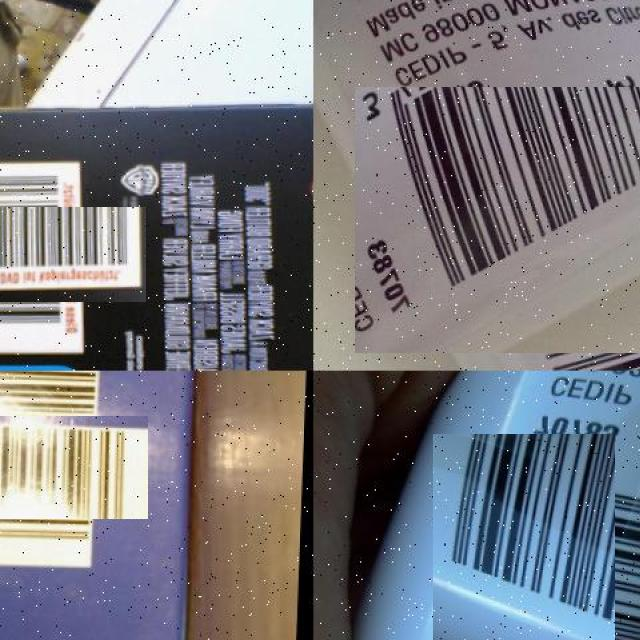Barcode: (364, 77, 640, 361), (420, 445, 627, 640), (0, 393, 126, 541), (0, 181, 120, 327)
